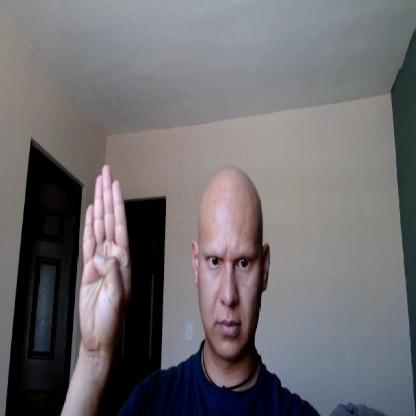B: (80, 166, 134, 346)
